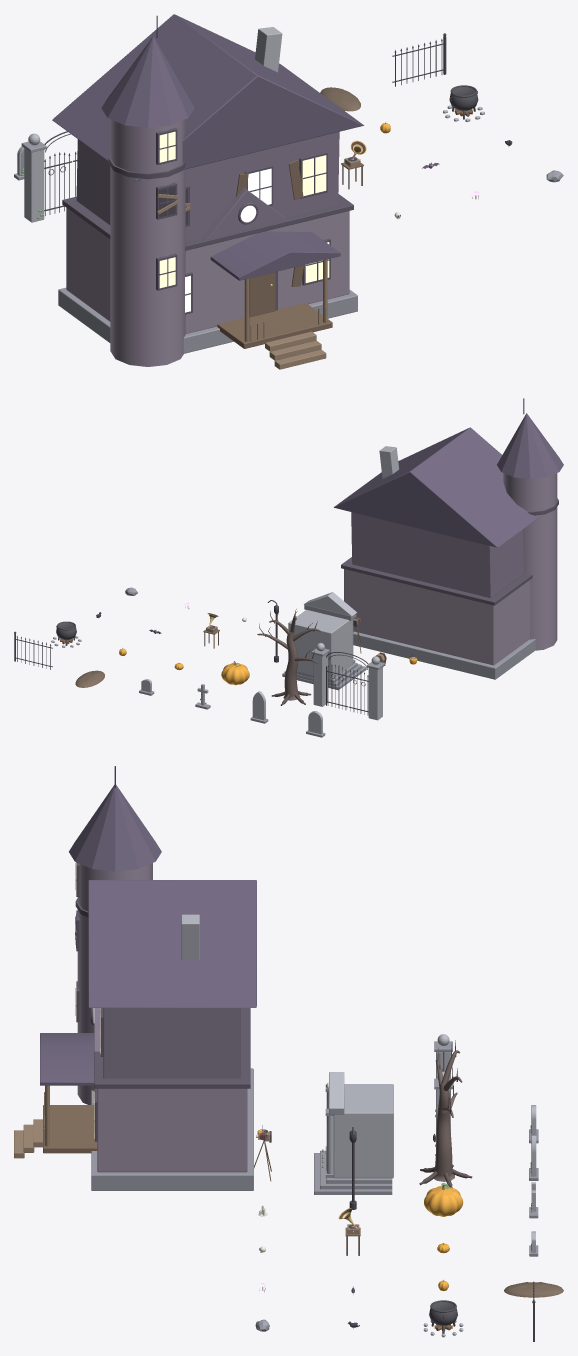
File: halloween.glb
3 views of the same model, one above another, from view 1: azimuth 30°, elevation 25°; view 2: azimuth 150°, elevation 25°; view 3: azimuth 270°, elevation 25° (orthographic). The views are drawn at different scales.
Visible parts, largest first — view 1: mansion_body, g_frame, ca_body, fence_section_mesh, dirt_mound_mesh, gate_left_mesh, gr_body; view 2: mansion_body, cr_body, g_frame, dt_body, gate_right_mesh, pumpkin_giant_body, ca_body, gate_left_mesh; view 3: mansion_body, cr_body, dt_body, pumpkin_giant_body, ca_body, g_frame, dirt_mound_mesh.
Part boxes in pixels (left/top/right/bottom): mansion_body: left=52, top=14, right=363, bottom=369; g_frame: left=21, top=131, right=70, bottom=222; ca_body: left=443, top=85, right=484, bottom=121; fence_section_mesh: left=392, top=33, right=446, bottom=86; dirt_mound_mesh: left=320, top=87, right=360, bottom=111; gate_left_mesh: left=44, top=152, right=72, bottom=215; gr_body: left=341, top=140, right=366, bottom=189; mansion_body: left=334, top=398, right=563, bottom=679; cr_body: left=282, top=592, right=366, bottom=690; g_frame: left=311, top=642, right=384, bottom=720; dt_body: left=257, top=609, right=320, bottom=705; gate_right_mesh: left=326, top=664, right=347, bottom=709; pumpkin_giant_body: left=221, top=661, right=249, bottom=685; ca_body: left=51, top=621, right=81, bottom=647; gate_left_mesh: left=348, top=670, right=368, bottom=715; mansion_body: left=14, top=766, right=256, bottom=1190; cr_body: left=314, top=1072, right=393, bottom=1194; dt_body: left=419, top=1040, right=472, bottom=1187; pumpkin_giant_body: left=424, top=1182, right=463, bottom=1216; ca_body: left=423, top=1300, right=463, bottom=1337; g_frame: left=434, top=1034, right=452, bottom=1155; dirt_mound_mesh: left=504, top=1282, right=563, bottom=1297.
Size of the model in its own units: 21 by 12.29 by 18.27.
